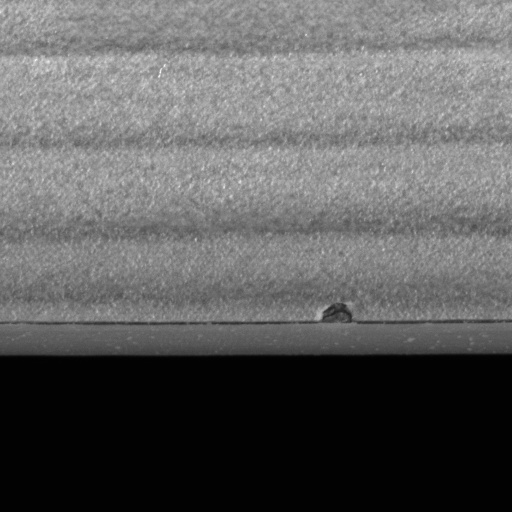bengque: (314, 302, 359, 326)
